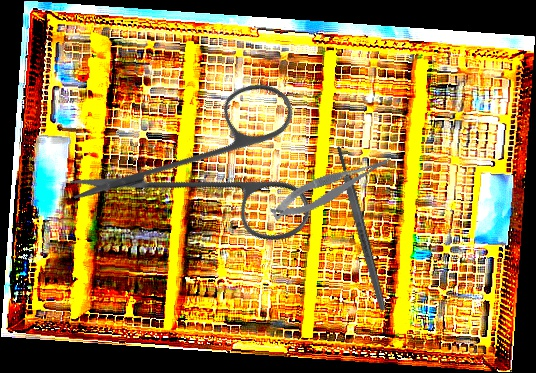Iris Scissors: (62, 22, 361, 319)
Micro Scissor: (264, 151, 400, 225)
Scalpel Handle: (334, 144, 388, 313)
